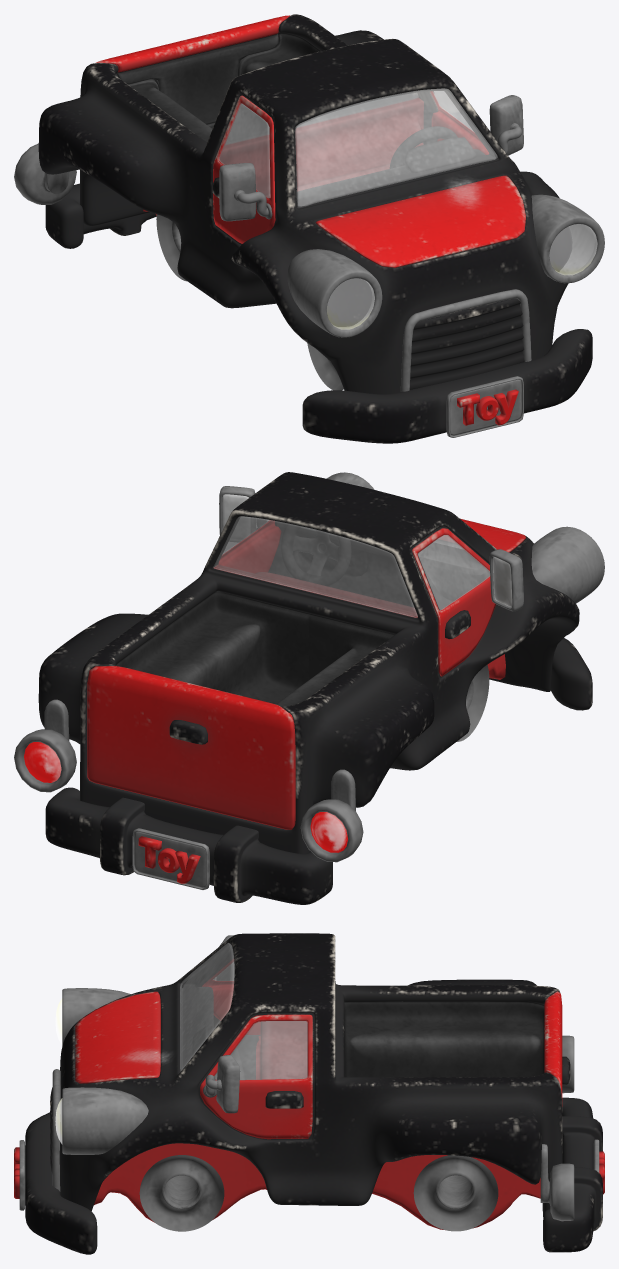
Rendered from largePickup_chassis.glb.
3 views of the same model, one above another, from view 1: azimuth 30°, elevation 25°; view 2: azimuth 150°, elevation 25°; view 3: azimuth 270°, elevation 25° (orthographic). The views are drawn at different scales.
Visible parts, largest first — view 1: hull.001_0; view 2: hull.001_0; view 3: hull.001_0.
Part boxes in pixels (x1,y1,x2,y2): hull.001_0: (14,14,604,443); hull.001_0: (14,472,604,904); hull.001_0: (14,933,604,1254).
Bounding box in the file's own units: 3.33 × 2.5 × 5.46.
Materials: 4 (4 with a texture image).
